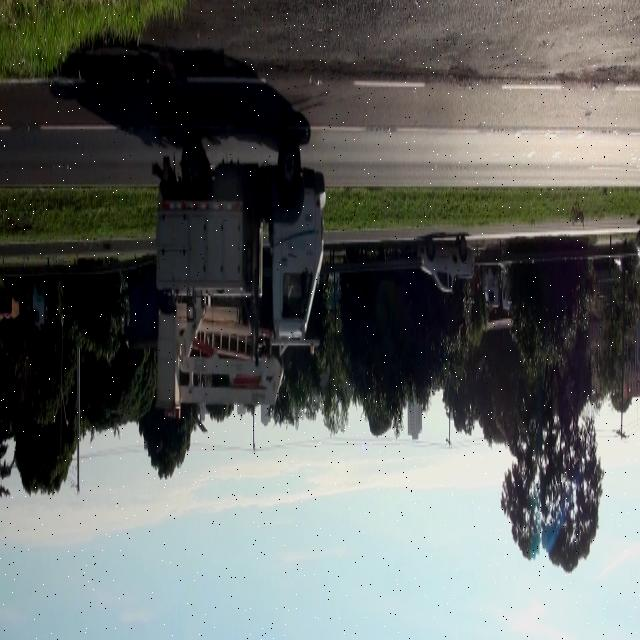-axle: (277, 143, 303, 206), (181, 140, 204, 202)
